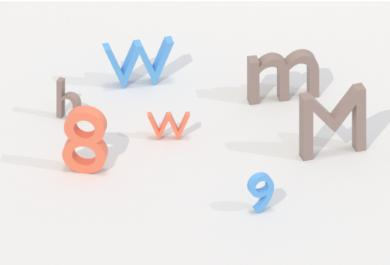8: (60, 104, 112, 178)
9: (242, 167, 276, 217)
M: (296, 81, 371, 164)
W: (99, 34, 177, 94), (142, 105, 193, 143)
h: (52, 74, 84, 122)
m: (242, 44, 326, 107)
